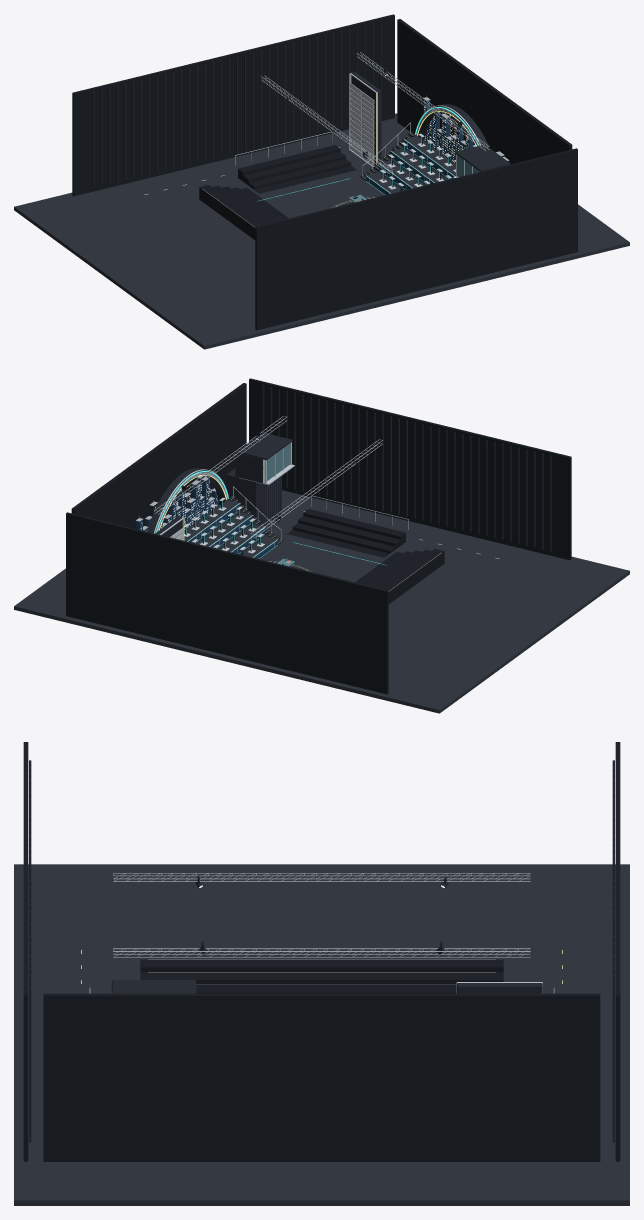
File: deal-studio.glb
3 views of the same model, one above another, from view 1: azimuth 30°, elevation 25°; view 2: azimuth 150°, elevation 25°; view 3: azimuth 270°, elevation 25° (orthographic). The views are drawn at different scales.
Parts seen in each view (by area): view 1: SM_StudioShell, SM_AudienceArchitecture, SM_CaseTerraces, SM_AmountDisplay, SM_ArchSkyline, SM_LightingHardware, SM_BankerSuite; view 2: SM_StudioShell, SM_AudienceArchitecture, SM_BankerSuite, SM_CaseTerraces, SM_ArchSkyline, SM_LightingHardware; view 3: SM_StudioShell, SM_AudienceArchitecture, SM_LightingHardware, SM_BankerSuite, SM_AmountDisplay.
Boxes of the visible parts, left/top/right/bottom form: SM_StudioShell: left=14, top=14, right=629, bottom=349; SM_AudienceArchitecture: left=199, top=132, right=356, bottom=239; SM_CaseTerraces: left=360, top=122, right=455, bottom=194; SM_AmountDisplay: left=349, top=72, right=381, bottom=167; SM_ArchSkyline: left=415, top=95, right=509, bottom=163; SM_LightingHardware: left=261, top=52, right=489, bottom=174; SM_BankerSuite: left=453, top=144, right=510, bottom=178; SM_StudioShell: left=14, top=378, right=629, bottom=713; SM_AudienceArchitecture: left=287, top=496, right=444, bottom=603; SM_BankerSuite: left=226, top=432, right=294, bottom=526; SM_CaseTerraces: left=184, top=486, right=283, bottom=558; SM_ArchSkyline: left=135, top=468, right=228, bottom=533; SM_LightingHardware: left=154, top=416, right=382, bottom=538; SM_StudioShell: left=14, top=742, right=629, bottom=1205; SM_AudienceArchitecture: left=89, top=959, right=554, bottom=993; SM_LightingHardware: left=113, top=873, right=530, bottom=957; SM_BankerSuite: left=111, top=980, right=196, bottom=993; SM_AmountDisplay: left=456, top=982, right=542, bottom=993.
Size of the model in its own units: 40 by 9.71 by 31.
